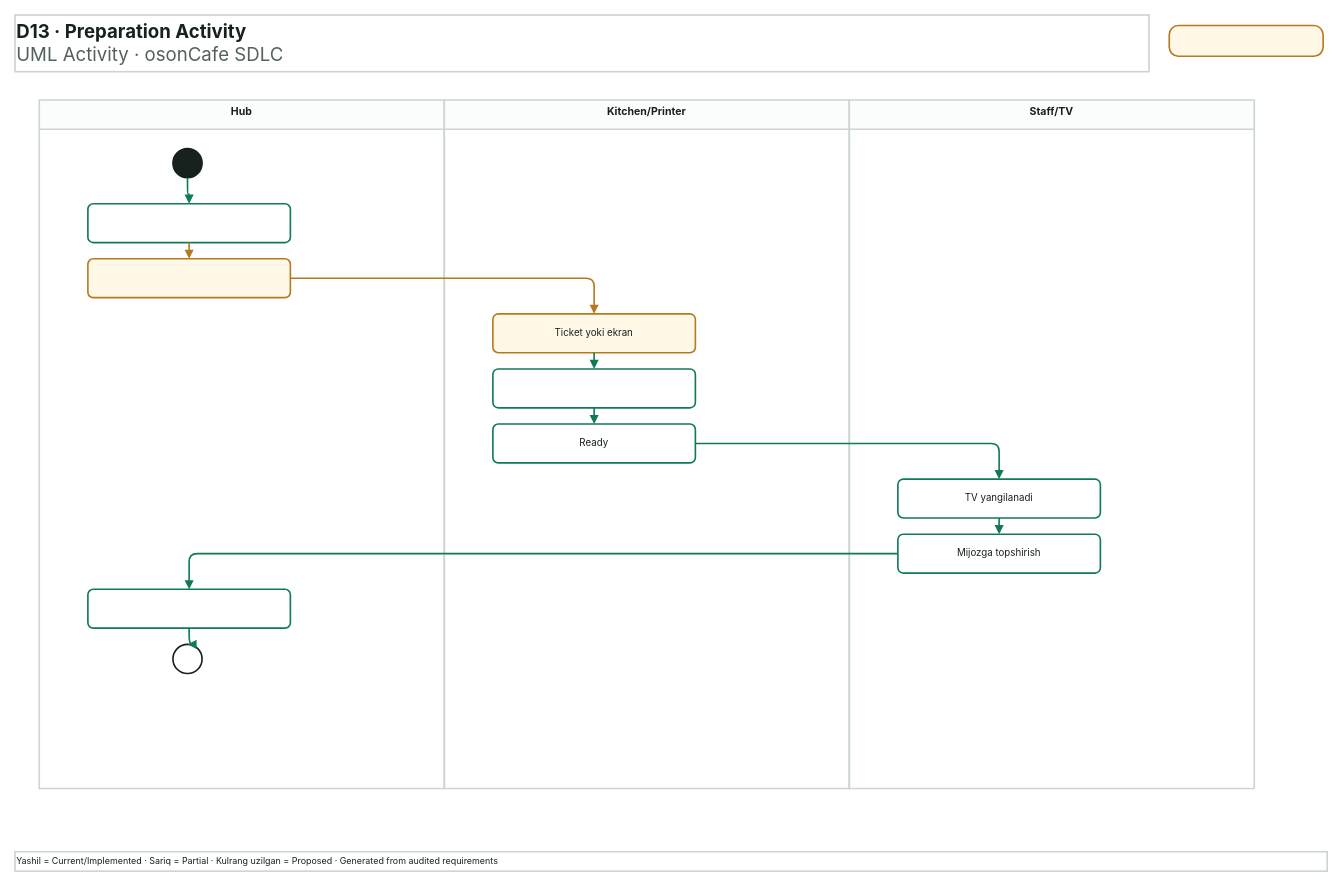
Some shapes in this 1341 by 885 pixel diagram are drawn without their labels. The shapes that lost their labels are listed below. From the top down, each one's centre as x and y in pixels, then its label:
At [1246,40]: "Current + Partial".
At [189,222]: "Confirmed order".
At [189,278]: "PrintJob / queue".
At [594,388]: "Preparing".
At [189,608]: "Completed".
